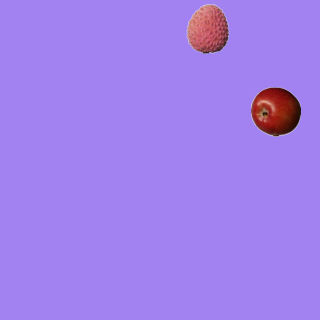Apple Braeburn: (250, 86, 300, 136)
Lychee: (182, 3, 232, 53)
